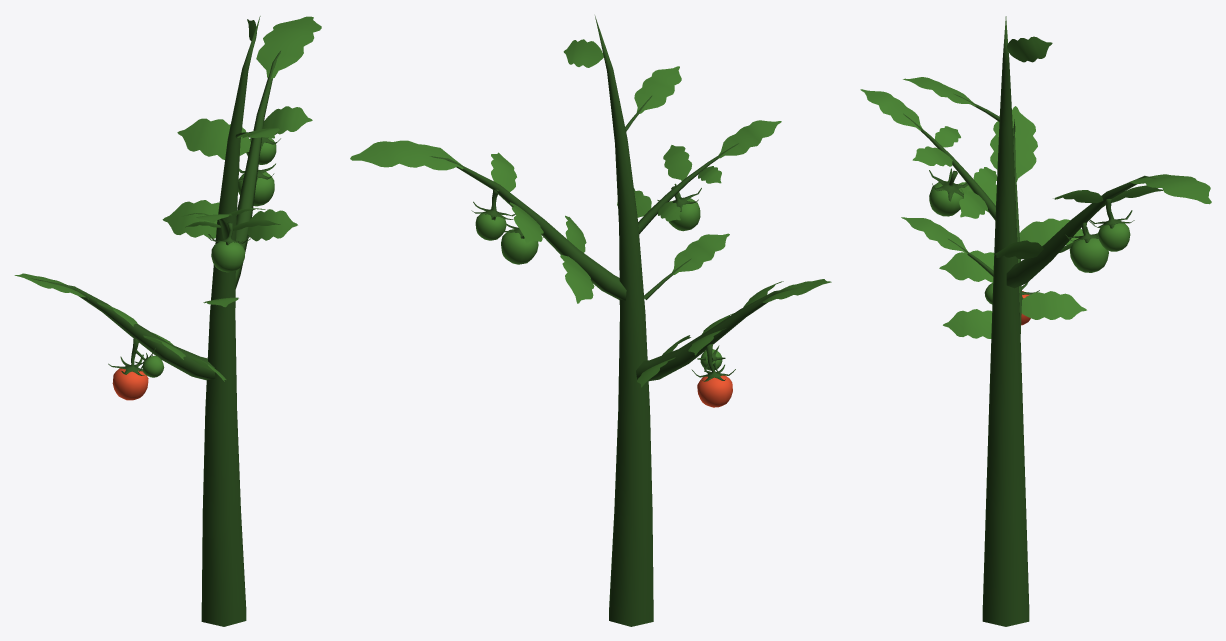
The model's file is CherryTomato_M.fbx.
The picture shows the model from 3 angles, left to right: view 1: azimuth 30°, elevation 25°; view 2: azimuth 150°, elevation 25°; view 3: azimuth 270°, elevation 25°; orthographic projection. The views are drawn at different scales.
Visible parts, largest first — view 1: Cube.026; view 2: Cube.026; view 3: Cube.026.
Part boxes in pixels (x1,y1,x2,y2): Cube.026: (14, 16, 321, 626); Cube.026: (350, 16, 831, 626); Cube.026: (860, 16, 1211, 626).
Size of the model in its own units: 3231 by 4698 by 2408.
